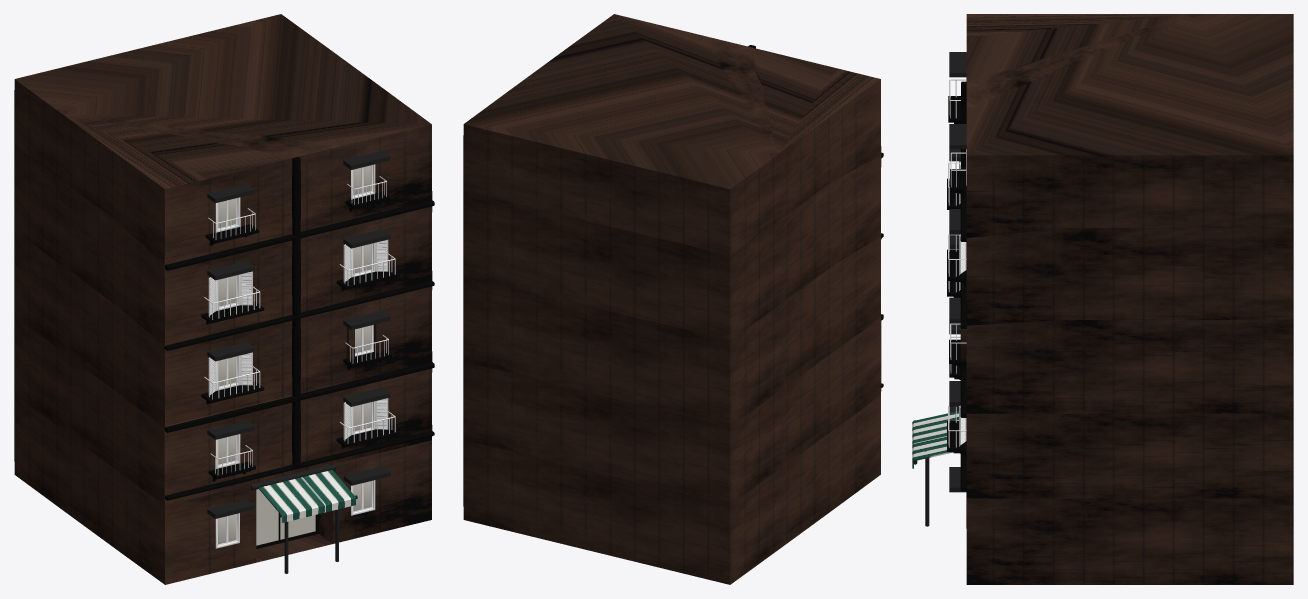
The model's file is building2.fbx.
3 renders of one model, left to right at view 1: azimuth 30°, elevation 25°; view 2: azimuth 150°, elevation 25°; view 3: azimuth 270°, elevation 25°, orthographic. The views are drawn at different scales.
Parts seen in each view (by area): view 1: Cube.002, Cube.014, Cube, Plane.038, Plane.034, Plane.028, Plane.010, Cube.003, Plane.048, Plane.018, Plane.044, Plane.024 (+4 smaller); view 2: Cube.002; view 3: Cube.002, Cube.014, Cube, Plane.034, Plane.010, Plane.044.
Part boxes in pixels (x1,y1,x2,y2): Cube.002: (14,14,432,584); Cube.014: (164,157,434,500); Cube: (258,470,355,522); Plane.038: (201,271,264,324); Plane.034: (336,239,399,290); Plane.028: (201,352,264,404); Plane.010: (336,398,399,448); Cube.003: (256,489,315,545); Plane.048: (205,197,259,245); Plane.018: (208,434,255,481); Plane.044: (345,164,389,211); Plane.024: (343,325,391,369); Cube.002: (463,14,881,584); Cube.002: (960,14,1293,584); Cube.014: (960,81,966,491); Cube: (912,411,958,468); Plane.034: (947,234,966,287); Plane.010: (947,405,966,458); Plane.044: (950,149,966,198).
Size of the model in its own units: 1047 by 1481 by 1190.
